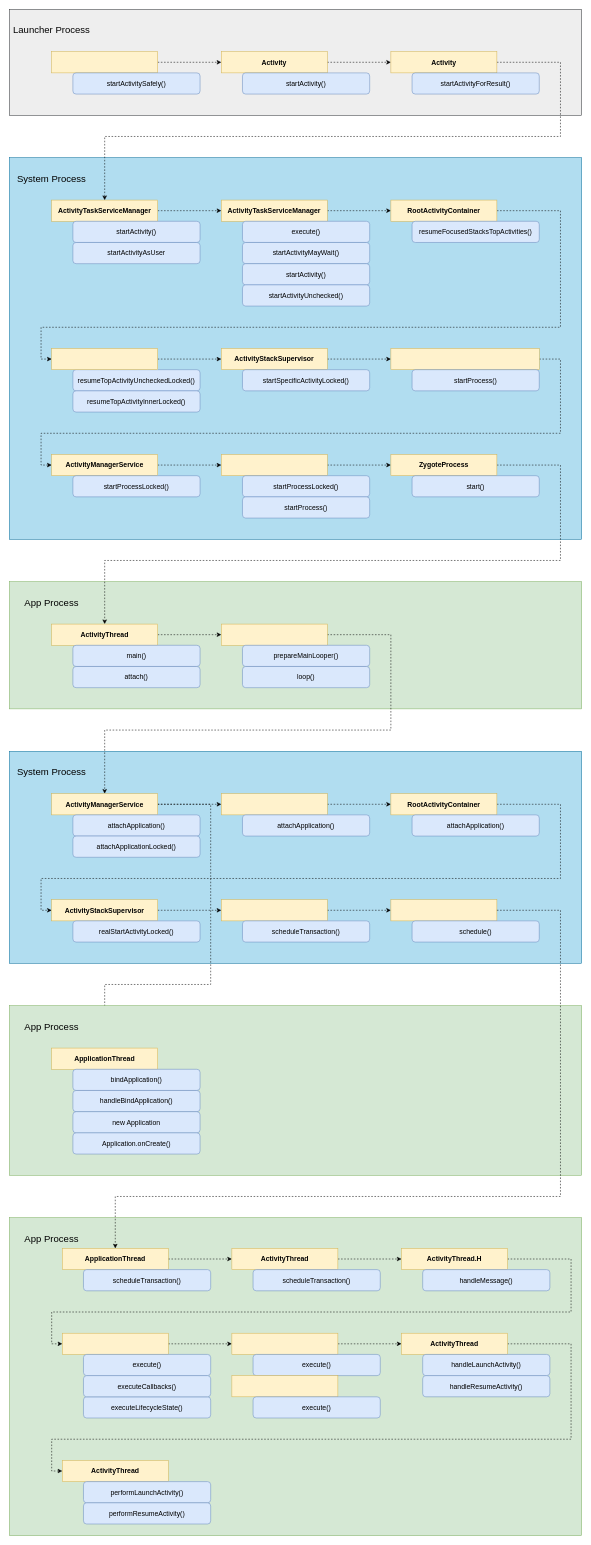
Image size: 591x1545. Some labels were removed from this diagram. The shapes that lost their labels are listed below. From the top down, each one's box as (x1, y1, x2, y2) in pixels, then its label:
(51, 51, 158, 73): Launcher
(51, 348, 158, 370): ActivityStack
(390, 348, 539, 370): ActivityManagerService.LocalService
(221, 454, 327, 476): ProcessList
(221, 624, 327, 645): Looper
(221, 793, 327, 815): ActivityTaskManagerService
(221, 899, 327, 921): ClientLifecycleManager
(390, 899, 497, 921): ClientTransaction
(62, 1333, 168, 1354): TransactionExecutor
(231, 1333, 338, 1354): LaunchActivityItem
(231, 1375, 338, 1397): ResumeActivityItem
